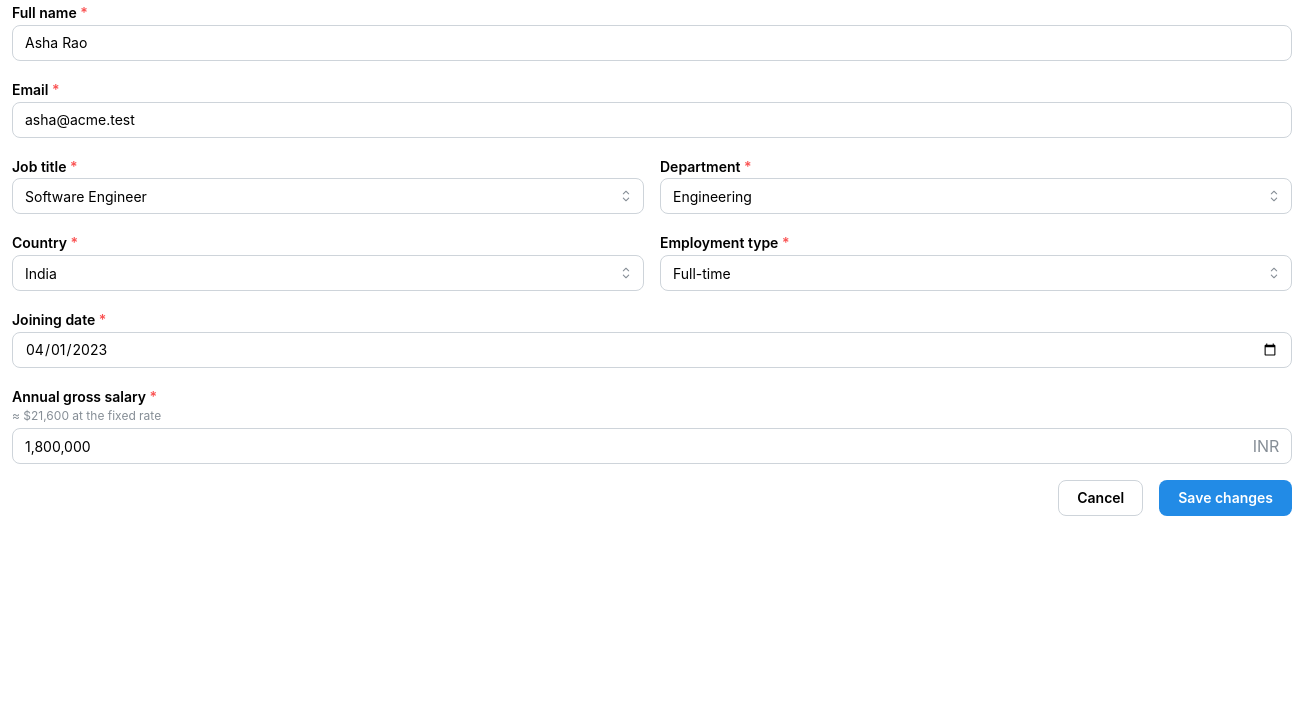
Scenario: EmployeeForm › shows a duplicate-email conflict from the server next to the email field
Click the button "Save changes" at (1226, 498), box [1159,480,1292,516]
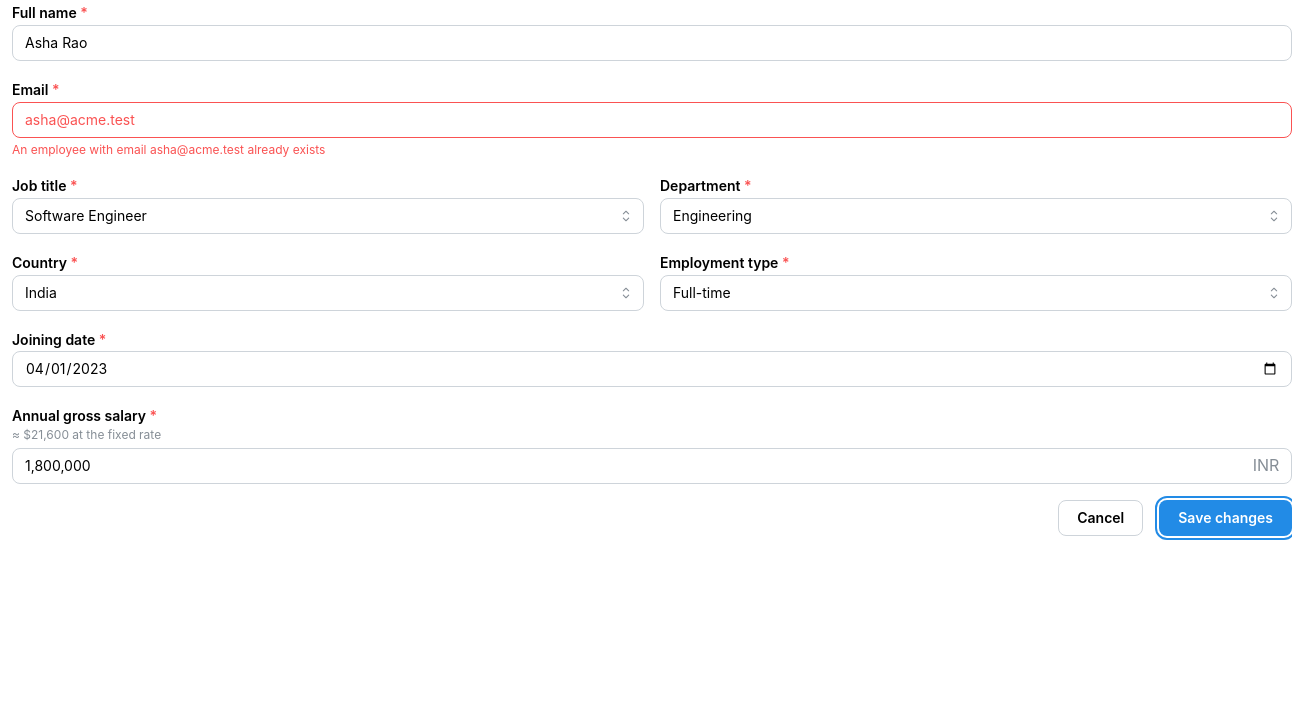
Expected: the text "An employee with email asha@acme.test already exists" is shown, [12,142,325,157]
